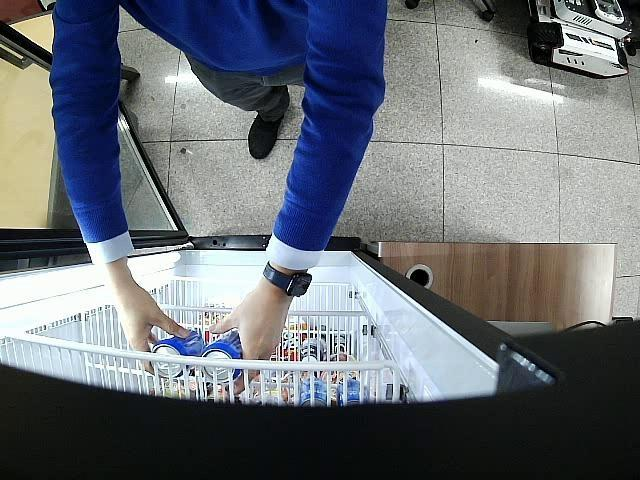13_pocariSweat: (150, 330, 206, 377), (202, 330, 242, 379)
